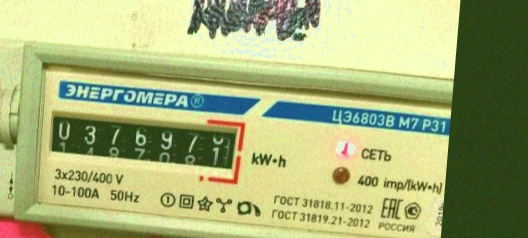0: (56, 117, 74, 139)
1: (210, 144, 223, 165)
3: (82, 121, 98, 145)
6: (135, 123, 149, 145)
7: (109, 120, 124, 145), (185, 128, 200, 152)
9: (159, 126, 174, 149)
screen: (41, 102, 249, 186)
